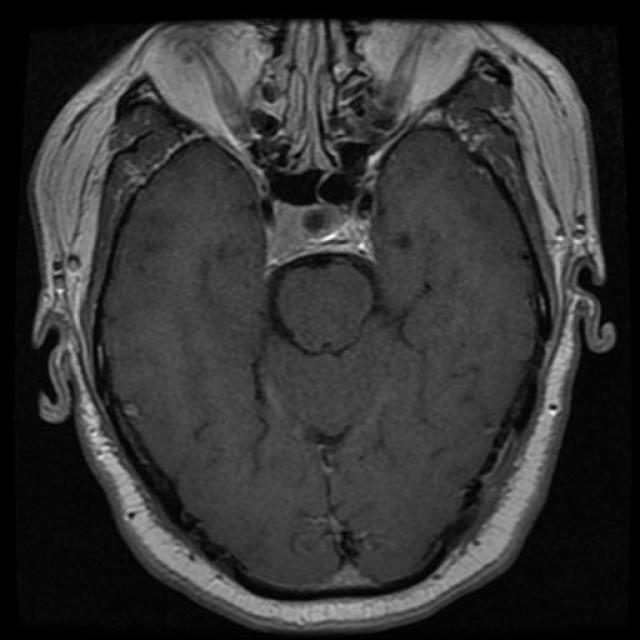pituitary: (257, 196, 384, 279)
